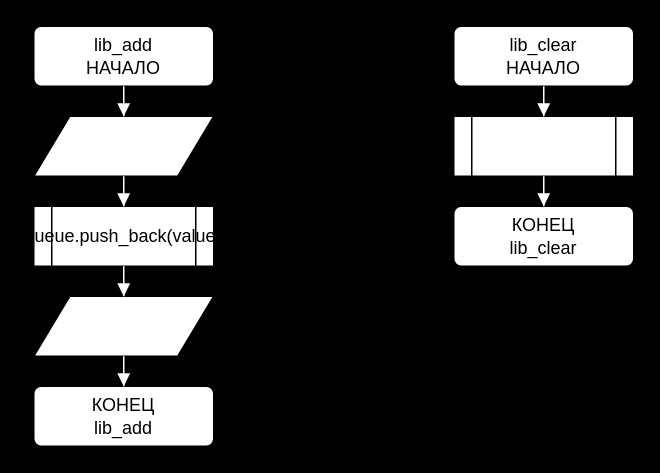
Image size: 660x473. Some labels were removed from this diagram. The shapes that lost their labels are listed below. From the top down, each one's centre as x and y in pixels, then its label:
At (123,145): "value".
At (543,145): "queue.clear()".
At (123,325): "ВОЗВРАТ 1".
